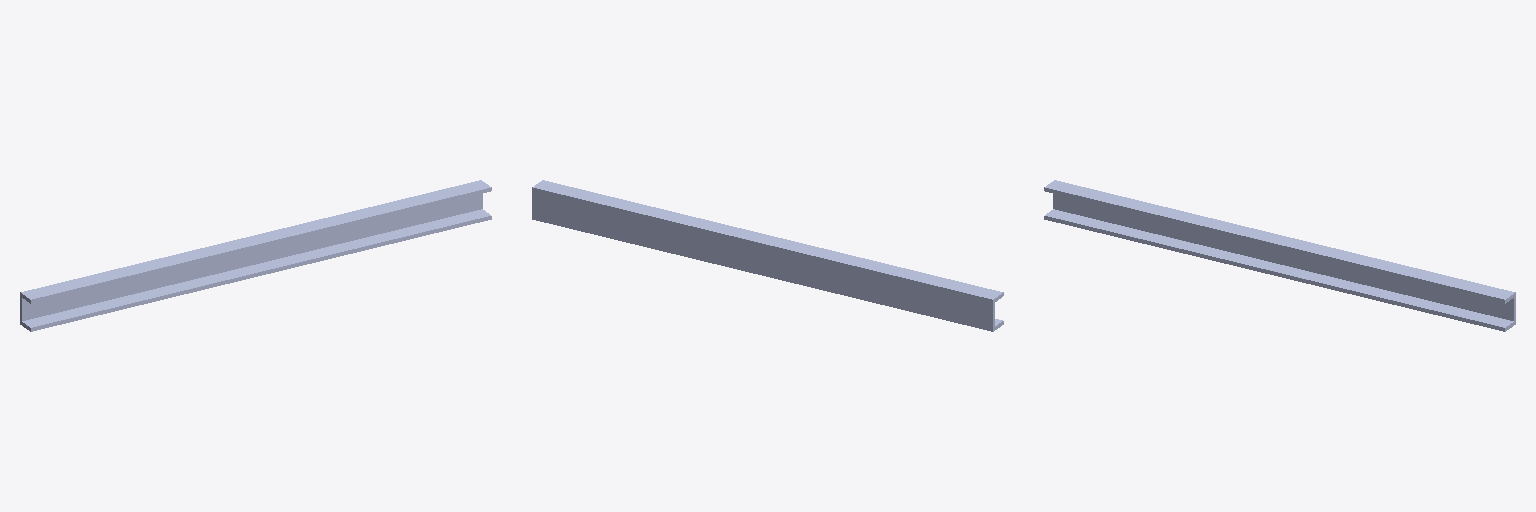
URDF robot description (Assembly_mounting_rod_v2):
<?xml version="1.0" encoding="utf-8"?>
<!-- This URDF was automatically created by SolidWorks to URDF Exporter! Originally created by [author] ([email redacted]) 
     Commit Version: 1.6.0-4-g7f85cfe  Build Version: 1.6.7995.38578
     For more information, please see http://wiki.ros.org/sw_urdf_exporter -->
<robot
  name="Assembly_mounting_rod_v2">
  <link
    name="base_link">
    <inertial>
      <origin
        xyz="1.7999E-17 -2.9145E-17 0.0086875"
        rpy="0 0 0" />
      <mass
        value="0.192" />
      <inertia
        ixx="5.6605E-05"
        ixy="-1.5621E-19"
        ixz="-5.1087E-21"
        iyy="0.00577"
        iyz="-1.3115E-19"
        izz="0.0058066" />
    </inertial>
    <visual>
      <origin
        xyz="0 0 0"
        rpy="0 0 0" />
      <geometry>
        <mesh
          filename="package://Assembly_mounting_rod_v2/meshes/base_link.STL" />
      </geometry>
      <material
        name="">
        <color
          rgba="0.79216 0.81961 0.93333 1" />
      </material>
    </visual>
    <collision>
      <origin
        xyz="0 0 0"
        rpy="0 0 0" />
      <geometry>
        <mesh
          filename="package://Assembly_mounting_rod_v2/meshes/base_link.STL" />
      </geometry>
    </collision>
  </link>
</robot>

--- What the picture shows (computed from the rendered views, not written in the file) ---
The picture shows the robot from 3 angles, left to right: view 1: azimuth 30°, elevation 25°; view 2: azimuth 150°, elevation 25°; view 3: azimuth 330°, elevation 25°; orthographic projection.
Model Assembly_mounting_rod_v2 with 1 links and 0 joints (none), rooted at base_link, posed all joints at 0.
Links seen in each view (by area): view 1: base_link; view 2: base_link; view 3: base_link.
Link boxes in pixels (box(x1,y1,x2,y2)): base_link: box(20, 180, 491, 331); base_link: box(532, 180, 1003, 331); base_link: box(1044, 180, 1515, 331).
Bounding box of the posed robot: 0.6 × 0.023 × 0.04 m (x, y, z).
1 mesh visuals loaded from 1 distinct referenced files (1 binary STL).